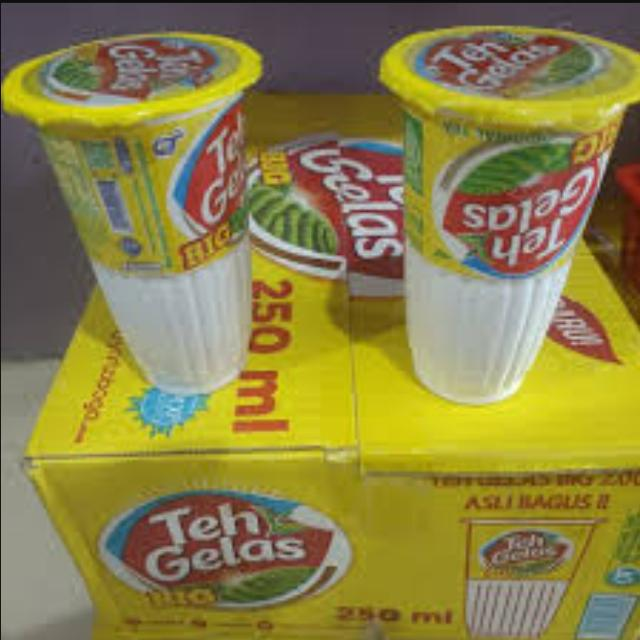GelasPlastik: (377, 22, 639, 405), (2, 29, 264, 398)
